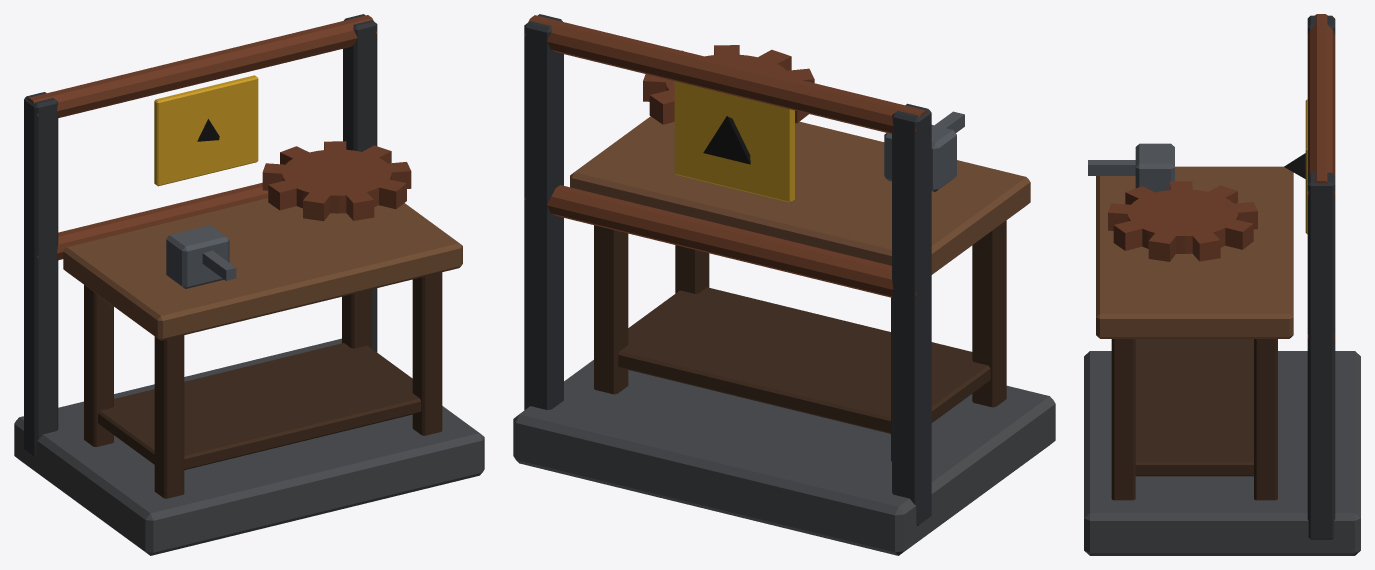
Rendered from press_wall_c.glb.
3 renders of one model, left to right at view 1: azimuth 30°, elevation 25°; view 2: azimuth 150°, elevation 25°; view 3: azimuth 270°, elevation 25°, orthographic. The views are drawn at different scales.
Visible parts, largest first — view 1: PressWallC; view 2: PressWallC; view 3: PressWallC.
Part boxes in pixels (left/top/right/bottom): PressWallC: left=14, top=14, right=484, bottom=555; PressWallC: left=513, top=14, right=1055, bottom=555; PressWallC: left=1084, top=14, right=1360, bottom=555.
Size of the model in its own units: 1.01 by 1.05 by 0.7.
